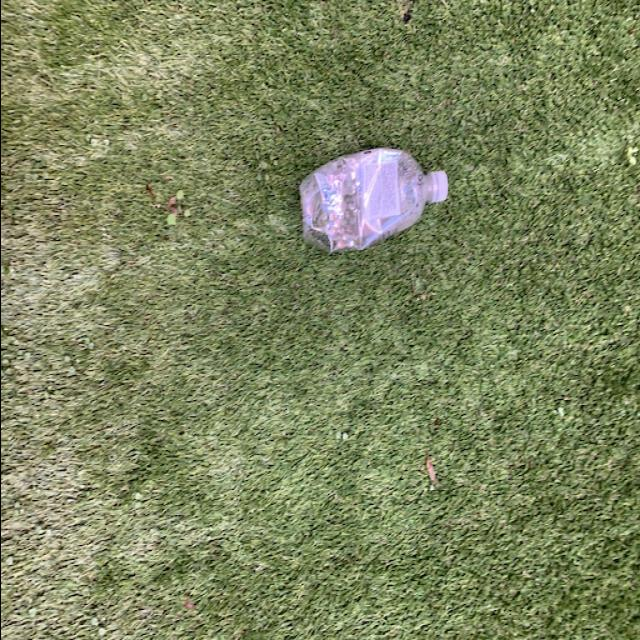litter: (291, 140, 447, 261)
